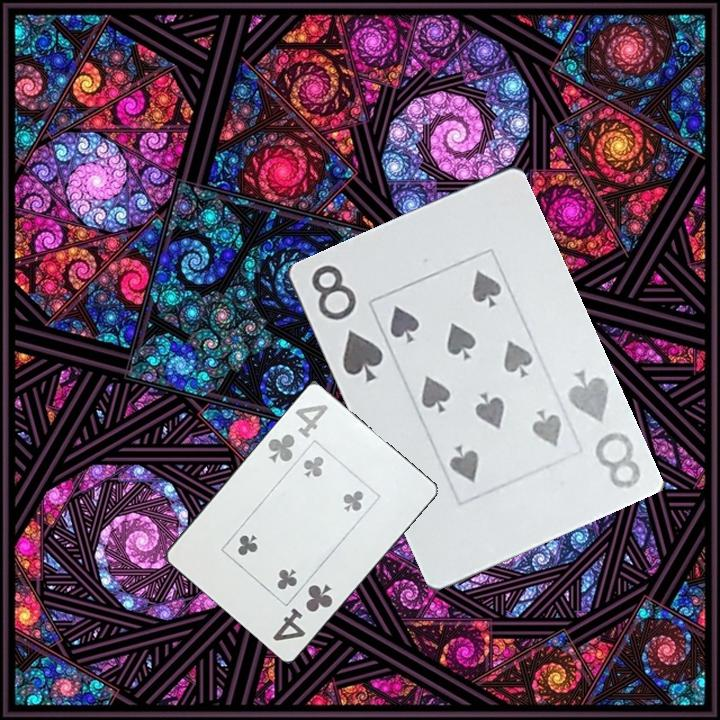4c: (264, 401, 331, 467), (269, 580, 336, 645)
8s: (563, 366, 644, 492), (307, 260, 386, 385)
